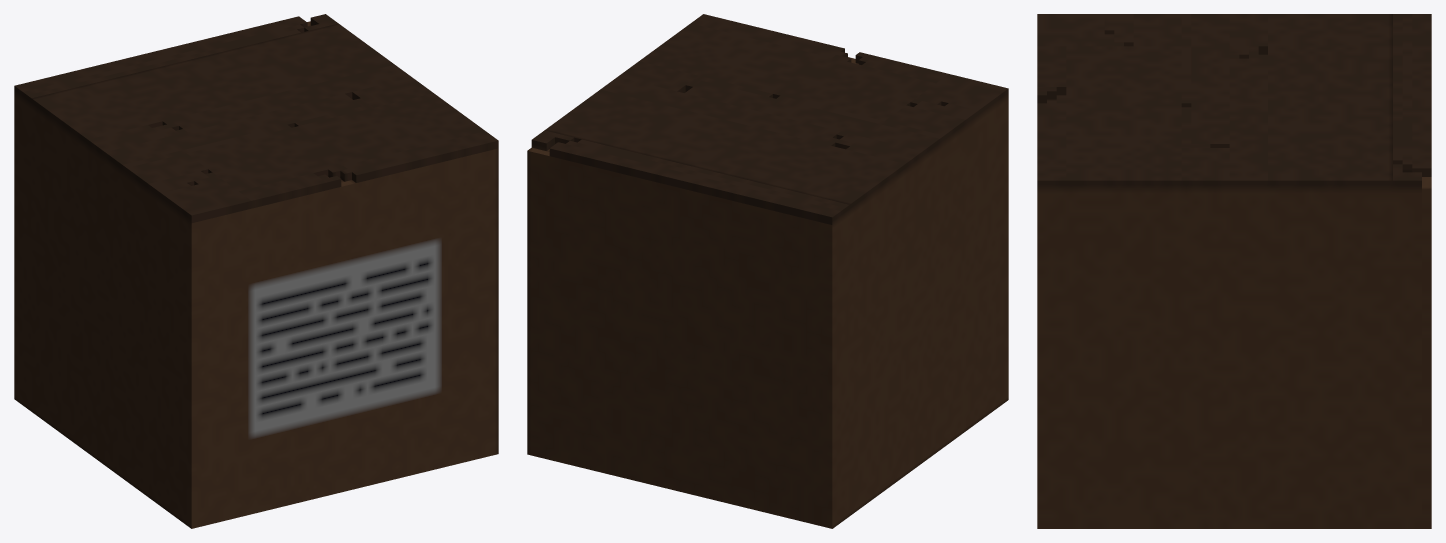
Rendered from big_szkrzynia.dae.
The picture shows the model from 3 angles, left to right: view 1: azimuth 30°, elevation 25°; view 2: azimuth 150°, elevation 25°; view 3: azimuth 270°, elevation 25°; orthographic projection. The views are drawn at different scales.
Visible parts, largest first — view 1: Content; view 2: Content; view 3: Content.
Boxes of the visible parts, left/top/right/bottom form: Content: left=14, top=14, right=498, bottom=528; Content: left=527, top=14, right=1008, bottom=528; Content: left=1037, top=14, right=1431, bottom=528.
Size of the model in its own units: 41 by 40 by 41.
Materials: 1 (1 with a texture image).
